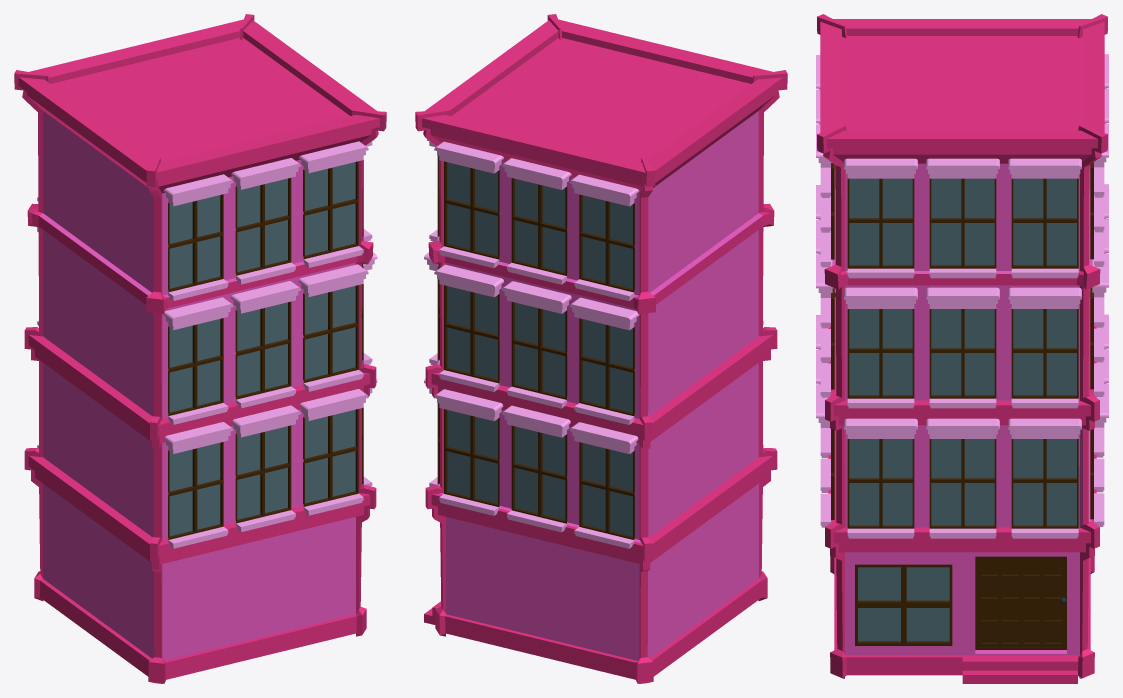
Rendered from 4-Pink.fbx.
The picture shows the model from 3 angles, left to right: view 1: azimuth 30°, elevation 25°; view 2: azimuth 150°, elevation 25°; view 3: azimuth 270°, elevation 25°; orthographic projection. The views are drawn at different scales.
Parts seen in each view (by area): view 1: Cube.005; view 2: Cube.005; view 3: Cube.005.
Part boxes in pixels (x1,y1,x2,y2): Cube.005: (14, 14, 386, 683); Cube.005: (415, 14, 787, 683); Cube.005: (816, 14, 1108, 683).
Bounding box in the file's own units: 1427 × 1435 × 2966.
